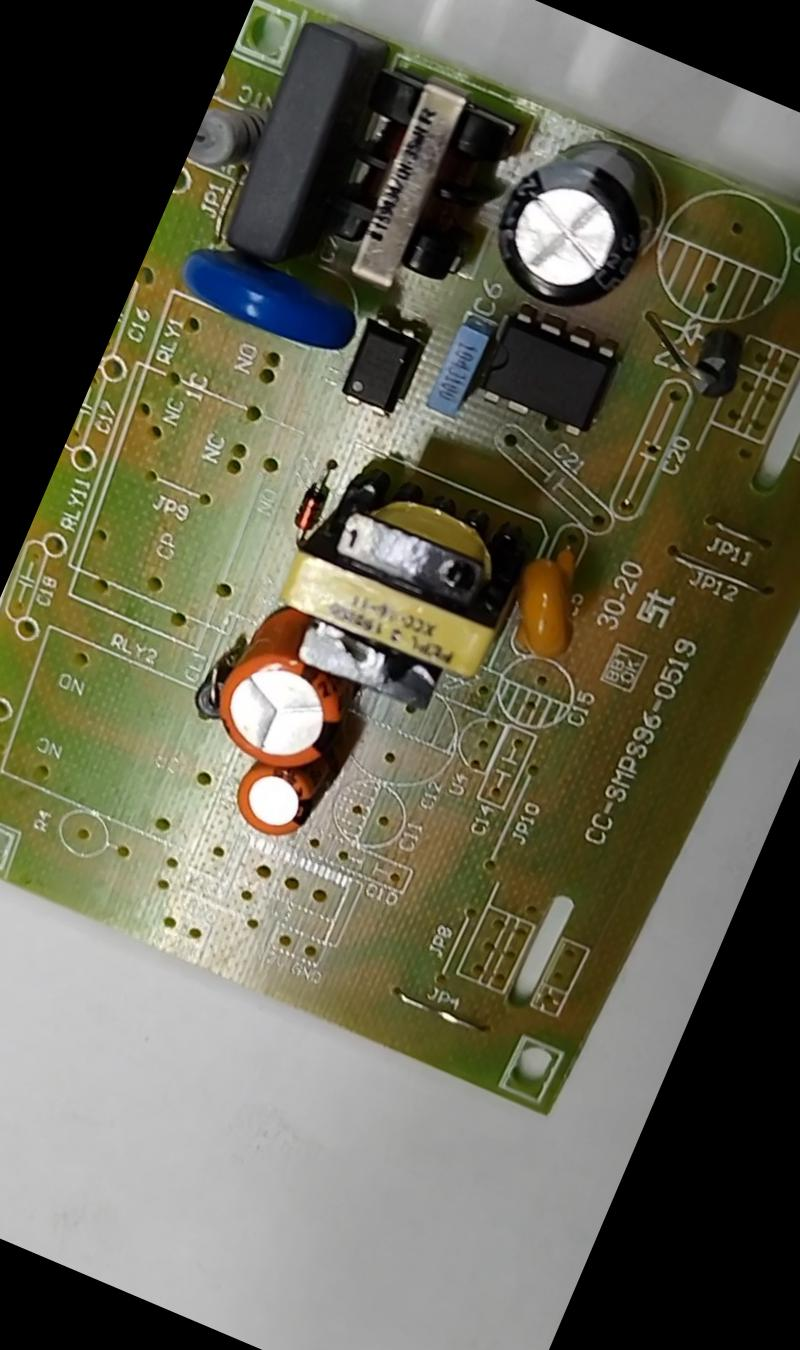Cap1: (201, 633, 354, 781)
Cap2: (223, 753, 322, 846)
Cap3: (478, 111, 670, 326)
MOSFET: (475, 306, 615, 438)
Mov: (170, 243, 360, 363)
Resistor: (188, 94, 266, 176)
Transformer: (258, 450, 535, 726), (306, 58, 520, 308)
